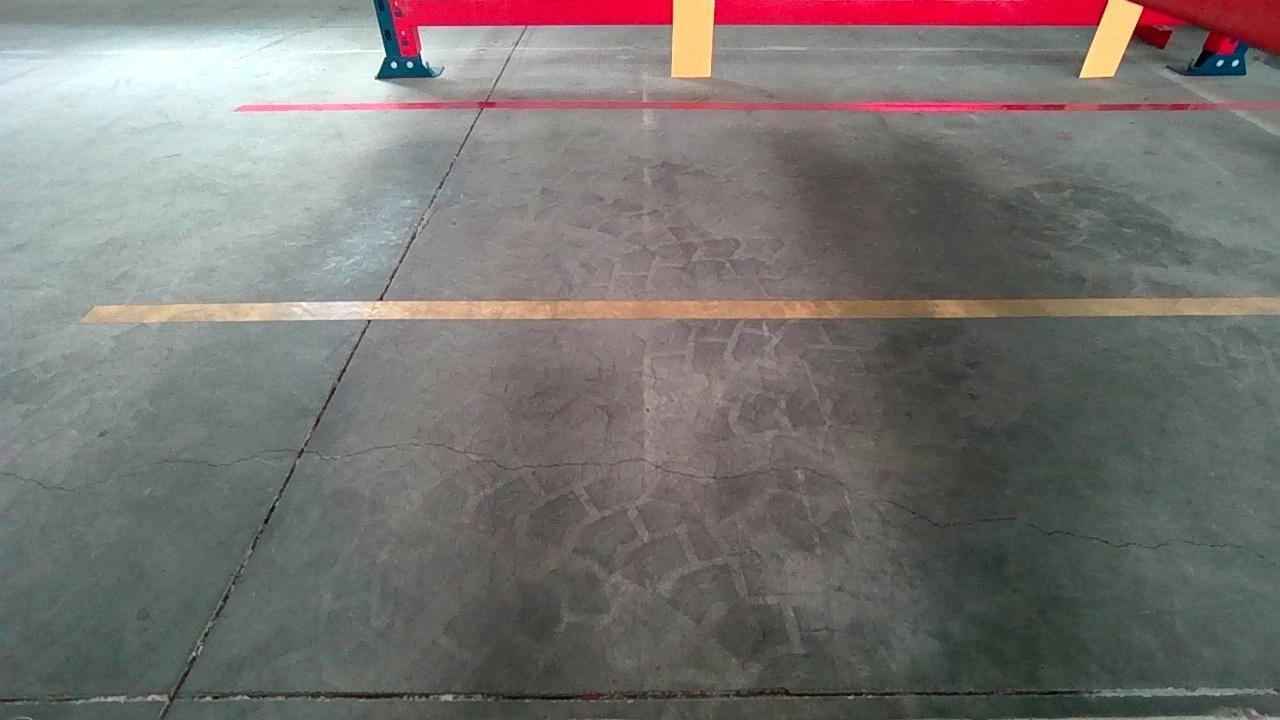h_rack: (400, 0, 1203, 26)
orange_strip: (1081, 0, 1146, 74), (672, 0, 715, 74)
red_line: (230, 98, 1280, 113)
yellow_line: (81, 294, 1280, 324)
